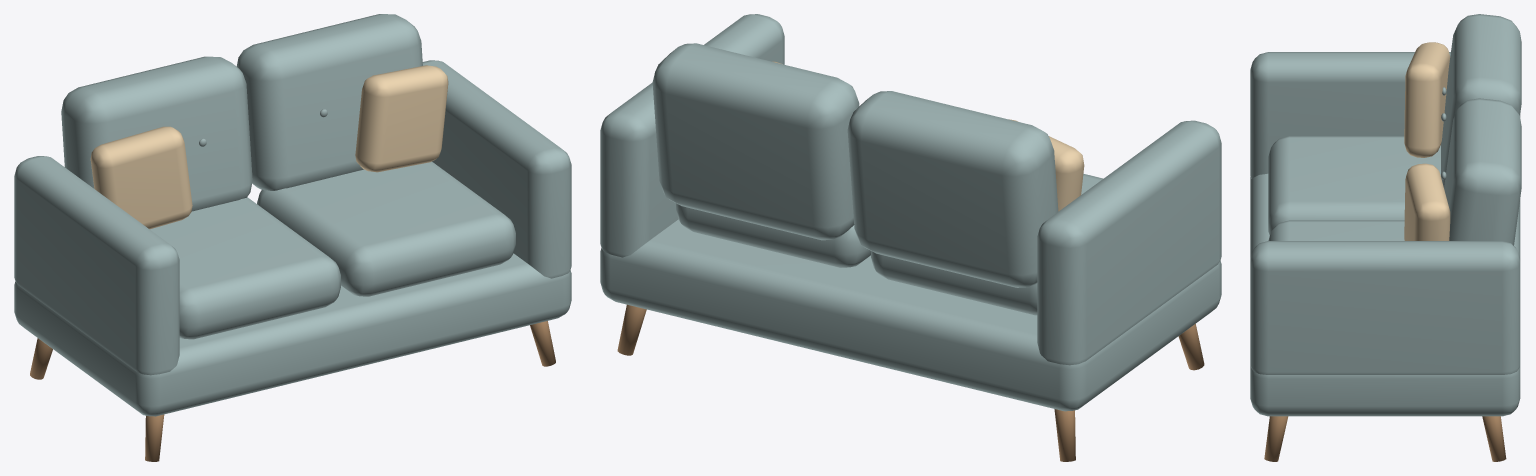
The model's file is atelier-two-seat-sofa-loveseat.glb.
3 views of the same model, side by side, from view 1: azimuth 30°, elevation 25°; view 2: azimuth 150°, elevation 25°; view 3: azimuth 270°, elevation 25° (orthographic). The views are drawn at different scales.
Parts seen in each view (by area): view 1: fabric.001, accent.001, legs.001; view 2: fabric.001, legs.001, accent.001; view 3: fabric.001, accent.001, legs.001.
Boxes of the visible parts, x1,y1,x2,y2 form: fabric.001: (14, 14, 571, 416); accent.001: (90, 65, 448, 229); legs.001: (30, 321, 555, 461); fabric.001: (600, 14, 1221, 411); legs.001: (617, 304, 1204, 461); accent.001: (772, 61, 1084, 211); fabric.001: (1250, 14, 1521, 416); accent.001: (1404, 42, 1450, 240); legs.001: (1264, 416, 1506, 461).
Size of the model in its own units: 1.65 by 1.02 by 0.9045.
